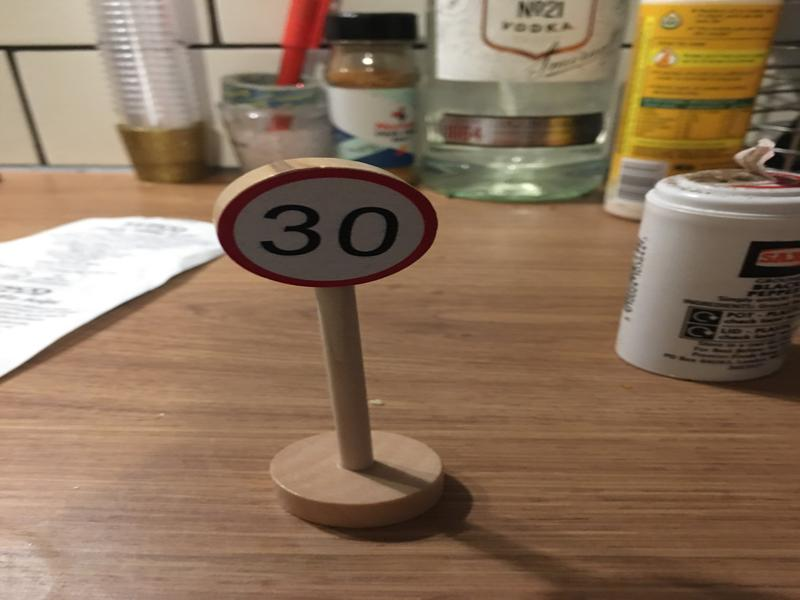Traffic_Sign_30: (220, 169, 437, 287)
